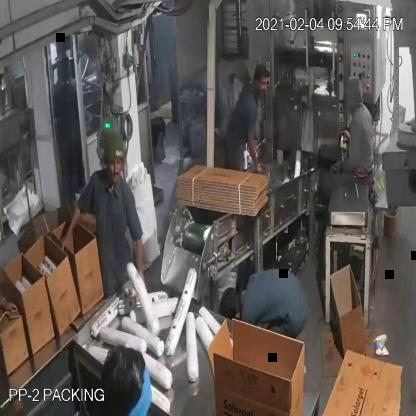no_glove: (57, 198, 83, 260), (244, 118, 260, 184), (129, 235, 147, 288)
